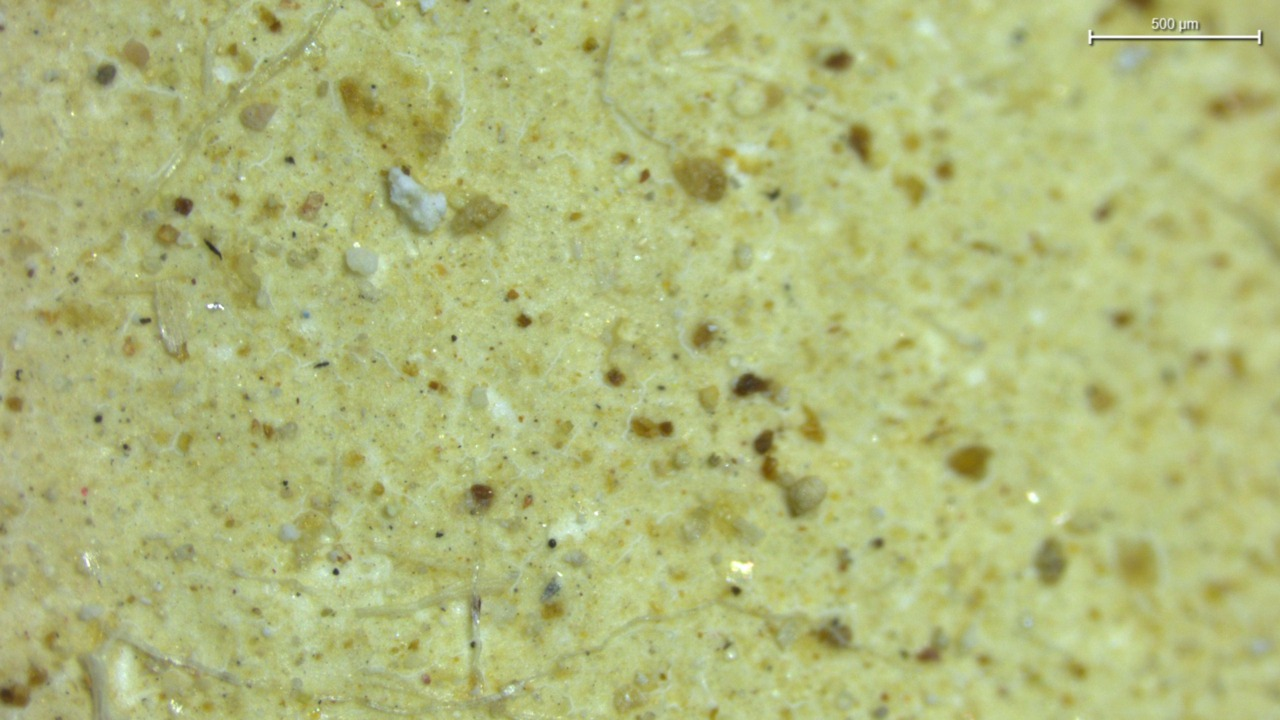microplastic_fragment: (386, 168, 446, 232), (793, 477, 828, 515), (345, 247, 378, 273)
